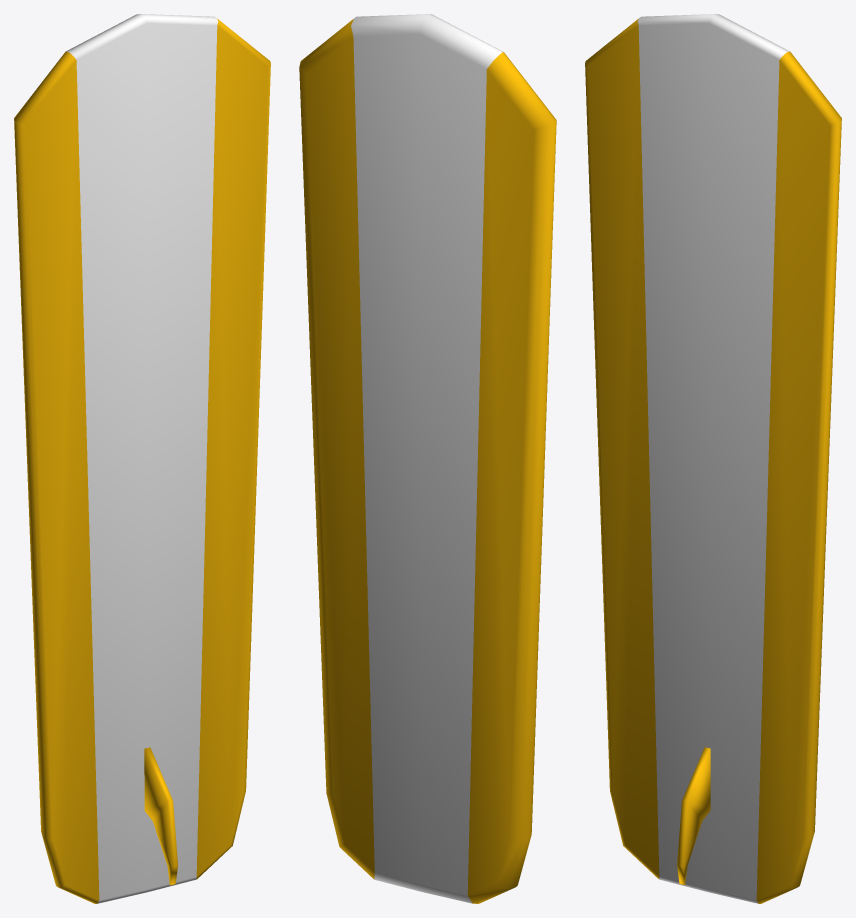
Rendered from item-back-surfboard.glb.
3 views of the same model, side by side, from view 1: azimuth 30°, elevation 25°; view 2: azimuth 150°, elevation 25°; view 3: azimuth 330°, elevation 25° (orthographic).
Bounding box in the file's own units: 1.73 × 5.74 × 0.4861.
